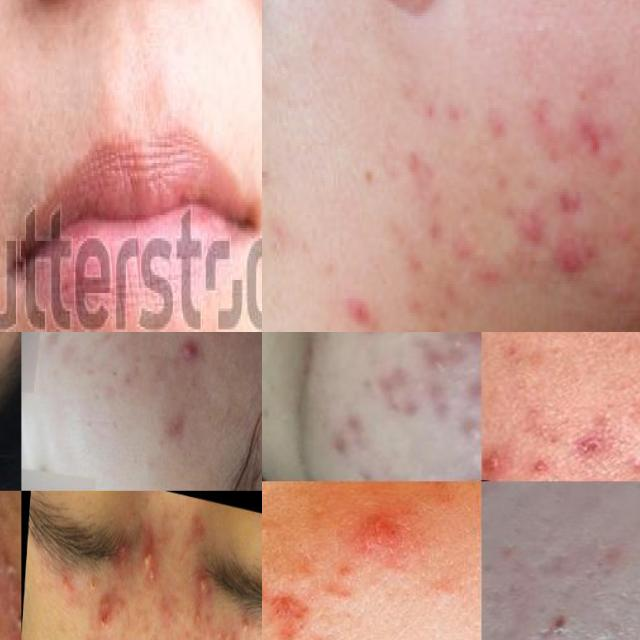acne_scars: (356, 363, 461, 432), (164, 406, 191, 440)
comedone: (316, 406, 379, 456), (435, 332, 476, 352), (134, 449, 162, 477), (280, 481, 300, 511), (117, 632, 130, 640)
folliculitis: (188, 608, 205, 632)
papule: (290, 491, 434, 571), (262, 575, 330, 640), (178, 332, 216, 379), (482, 422, 512, 477), (413, 350, 456, 377), (453, 406, 481, 444), (95, 630, 113, 640)
pustule: (238, 607, 254, 640), (58, 571, 72, 601)
sebo-crystan-conglo: (94, 584, 118, 624), (139, 542, 156, 576), (195, 565, 208, 595)
